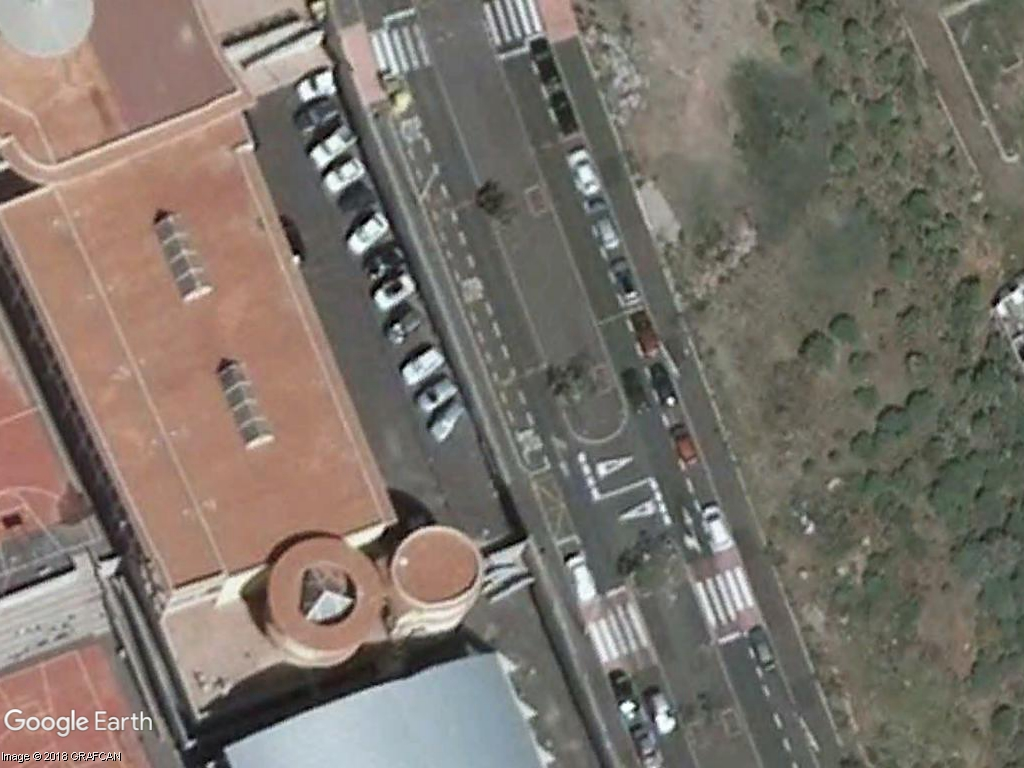car: (558, 143, 606, 197), (581, 197, 624, 254), (696, 497, 735, 557), (601, 255, 643, 310), (664, 417, 704, 473), (643, 359, 684, 412), (340, 212, 390, 255), (742, 626, 784, 677), (393, 350, 451, 386), (641, 689, 681, 738), (289, 66, 340, 104), (378, 312, 431, 348)
other: (303, 128, 358, 167)
